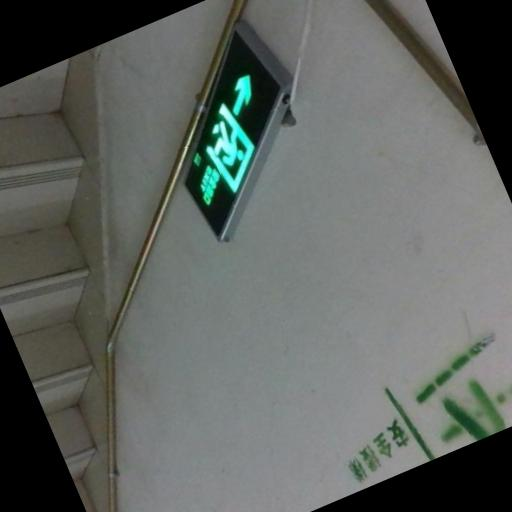stairs: (0, 59, 94, 511)
